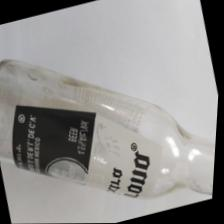glass: (0, 13, 222, 223)
